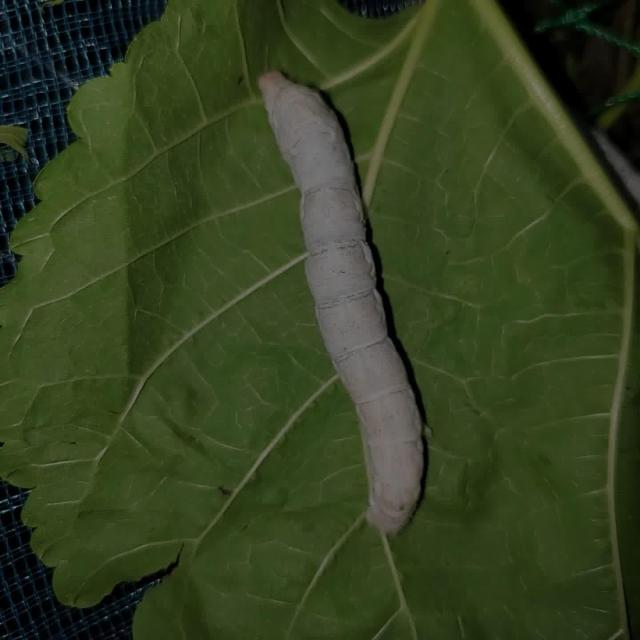Healthy: (243, 37, 494, 553)
